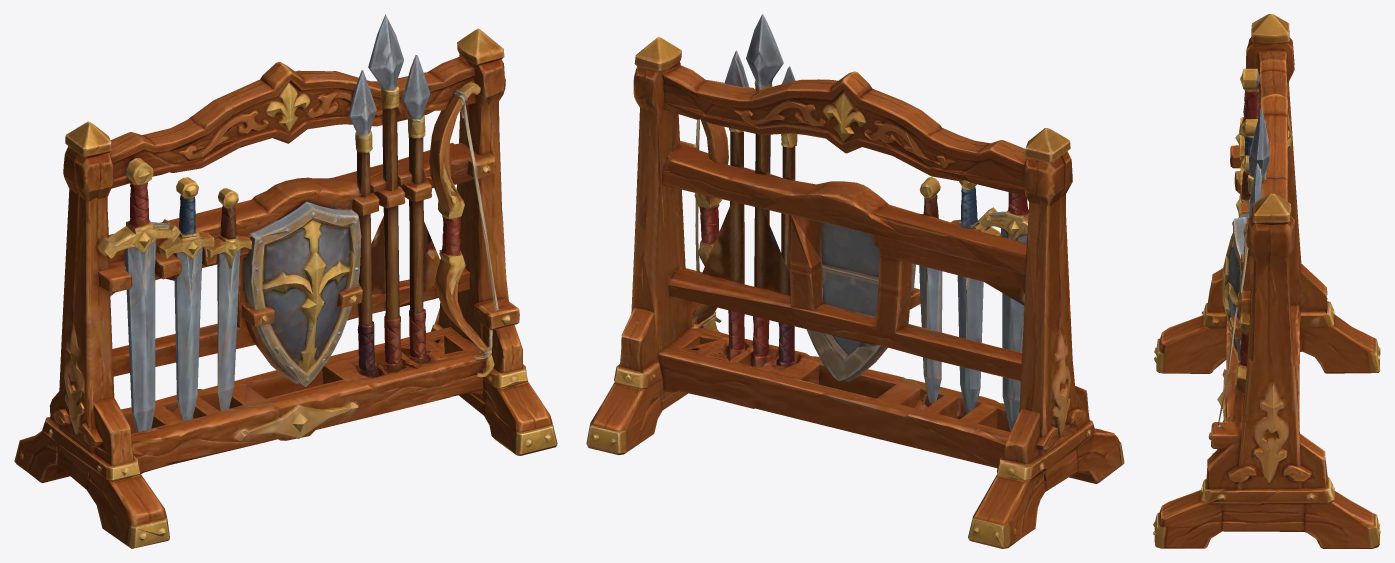
The model's file is prop_weaponrack.glb.
3 renders of one model, left to right at view 1: azimuth 30°, elevation 25°; view 2: azimuth 150°, elevation 25°; view 3: azimuth 270°, elevation 25°, orthographic. The views are drawn at different scales.
Visible parts, largest first — view 1: output_unwrapped; view 2: output_unwrapped; view 3: output_unwrapped.
Boxes of the visible parts, <box> form: output_unwrapped: <box>14,14,557,548</box>; output_unwrapped: <box>586,14,1124,548</box>; output_unwrapped: <box>1153,14,1380,548</box>.
Bounding box in the file's own units: 1.9 × 1.77 × 0.9441.
Materials: 1 (1 with a texture image).
